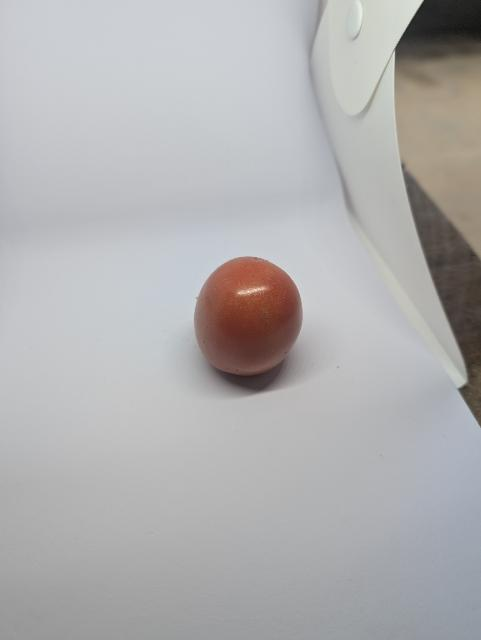red: (185, 241, 318, 379)
